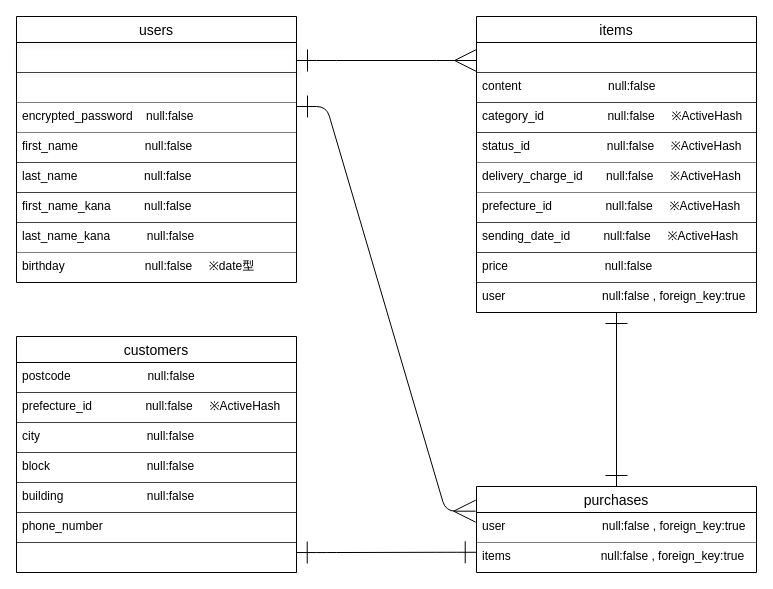
Some shapes in this 773 by 589 pixel diagram are drawn without their labels. Each missing label, with the centre of its shape:
"email null:false , unique:true" goes at point 156,87.
"item_name null:false" goes at point 616,57.
"nickname null:false" goes at point 157,59.
"purchase null:false , foreign_key:true" goes at point 156,557.
